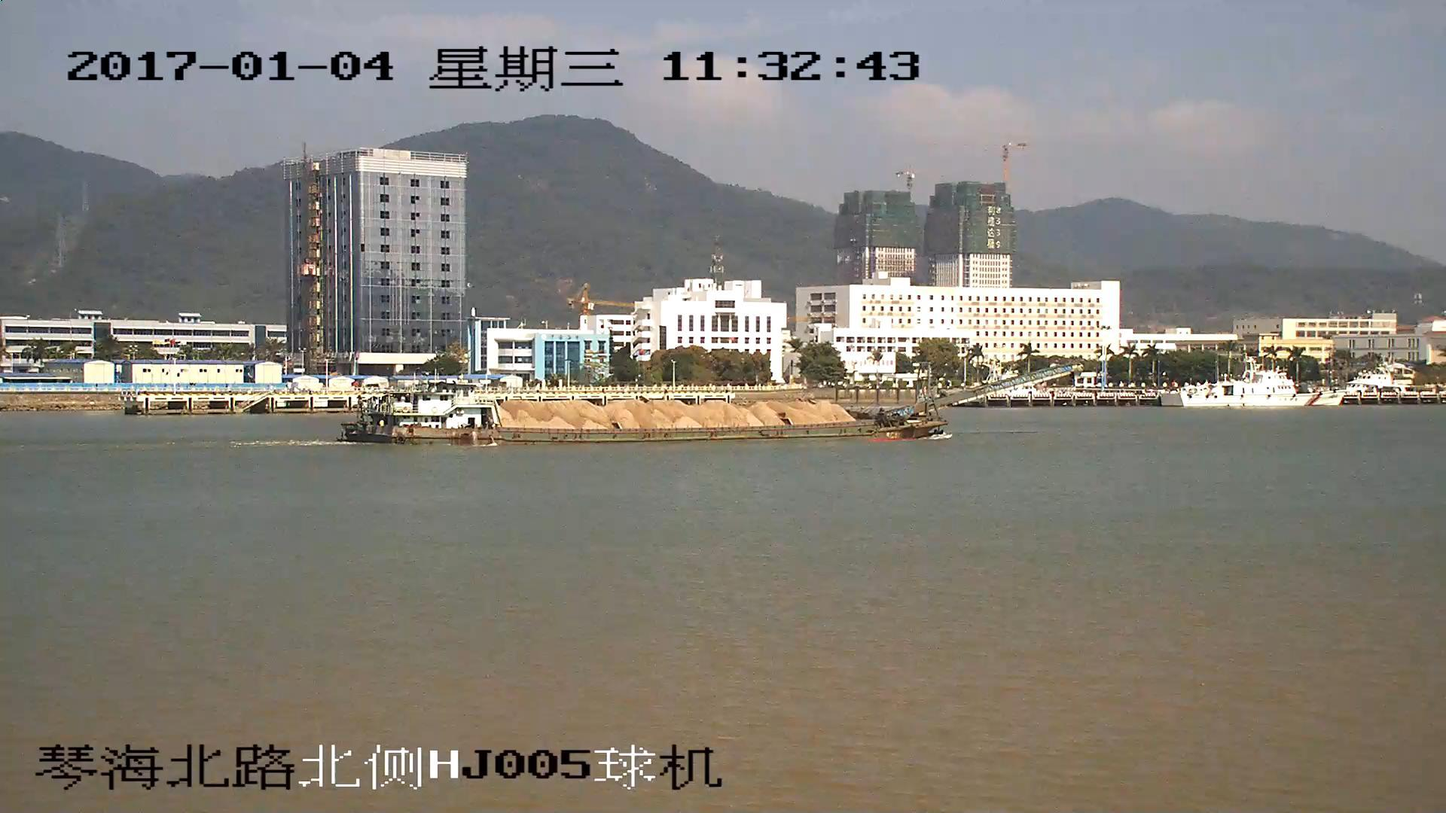ore carrier: (340, 361, 1079, 445)
